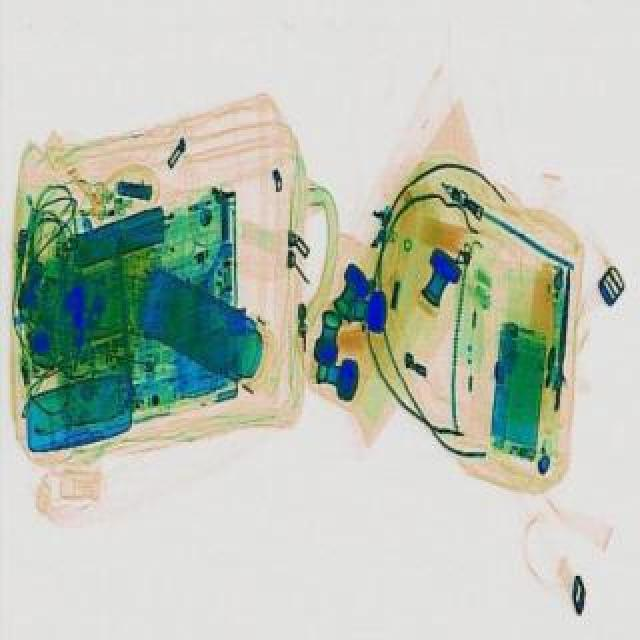knife: (552, 264, 580, 408)
